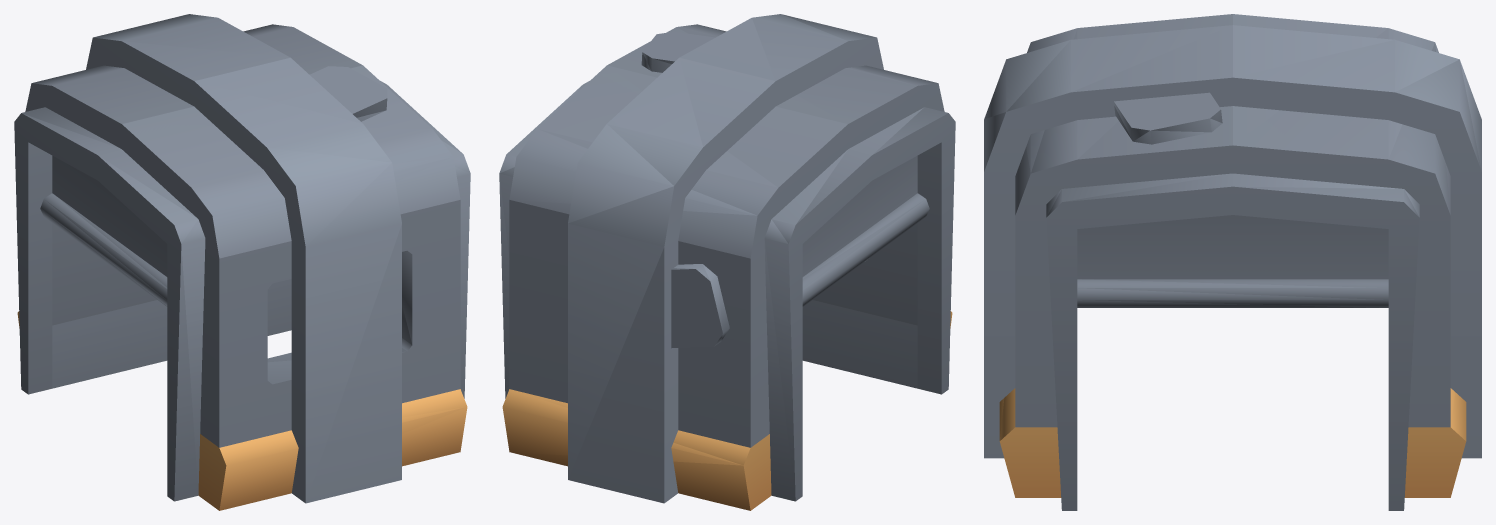
File: factory_machine_fortified.fbx
3 renders of one model, left to right at view 1: azimuth 30°, elevation 25°; view 2: azimuth 150°, elevation 25°; view 3: azimuth 270°, elevation 25°, orthographic. The views are drawn at different scales.
Visible parts, largest first — view 1: factory_machine_fortified_LOD0; view 2: factory_machine_fortified_LOD0; view 3: factory_machine_fortified_LOD0.
Boxes of the visible parts, bbox=[...] form: factory_machine_fortified_LOD0: bbox=[14, 14, 470, 510]; factory_machine_fortified_LOD0: bbox=[499, 14, 955, 510]; factory_machine_fortified_LOD0: bbox=[984, 14, 1481, 510].
Size of what is drawn, in the model's own units: 2 by 2.25 by 2.67.
1 material, 1 textured.
